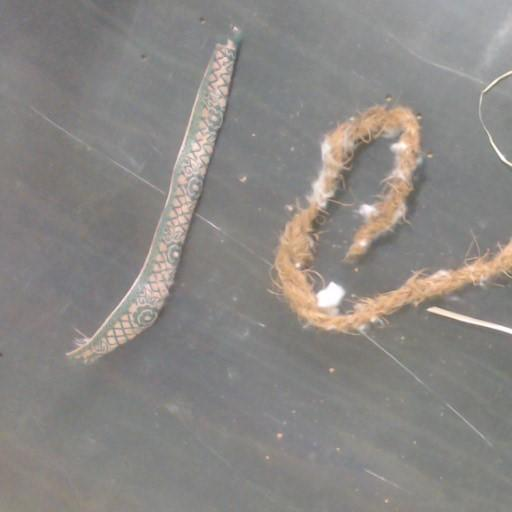cloth: (68, 32, 240, 362)
jute: (274, 106, 511, 332), (478, 70, 511, 167)
thread: (427, 306, 511, 334)
